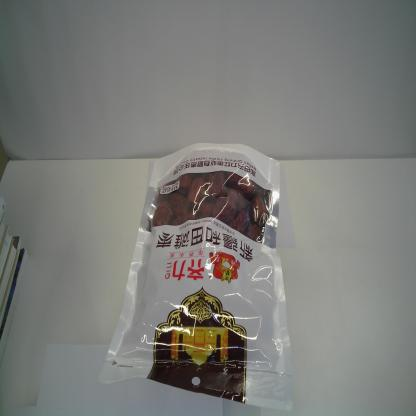Dried Food: (96, 140, 296, 412)
